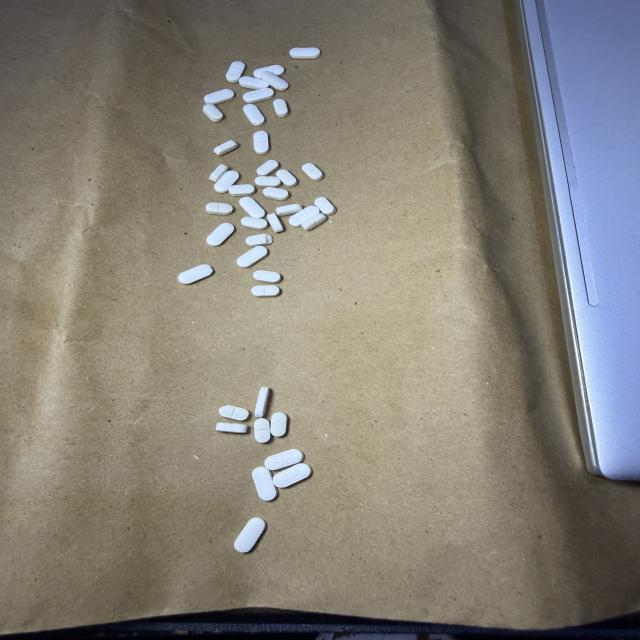pill: (235, 517, 266, 553), (273, 463, 311, 488), (252, 467, 277, 501), (265, 449, 303, 470), (178, 265, 213, 284), (289, 205, 319, 227), (237, 246, 268, 267), (207, 223, 234, 246), (261, 71, 289, 91), (214, 171, 239, 193), (239, 197, 265, 218), (243, 104, 265, 126), (254, 386, 269, 418), (243, 88, 274, 103), (301, 213, 327, 230), (205, 89, 234, 104), (219, 406, 248, 421), (254, 418, 270, 443), (226, 62, 245, 83), (254, 65, 284, 78), (214, 140, 238, 156), (302, 163, 323, 181), (239, 76, 268, 89), (271, 413, 287, 436), (253, 270, 281, 283), (203, 104, 223, 122), (315, 197, 335, 215), (276, 170, 297, 187), (257, 160, 279, 176), (254, 131, 269, 154), (267, 213, 284, 233), (263, 187, 289, 200), (246, 234, 274, 246), (290, 48, 320, 59), (276, 204, 303, 216), (206, 203, 233, 215), (210, 164, 228, 182), (229, 184, 255, 196), (241, 217, 267, 229), (216, 423, 247, 433), (252, 286, 280, 296), (273, 99, 288, 117), (255, 176, 281, 186)
